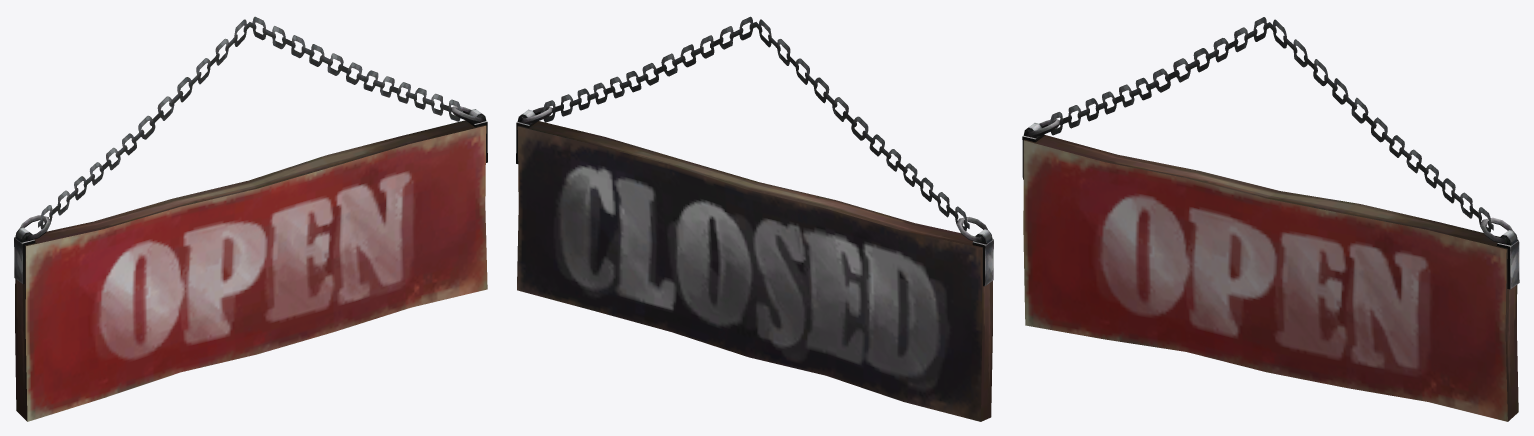
File: letrero.obj
The picture shows the model from 3 angles, left to right: view 1: azimuth 30°, elevation 25°; view 2: azimuth 150°, elevation 25°; view 3: azimuth 330°, elevation 25°; orthographic projection. The views are drawn at different scales.
Parts seen in each view (by area): view 1: Letrero; view 2: Letrero; view 3: Letrero.
Part boxes in pixels (bbox=[...]): Letrero: bbox=[14, 16, 487, 421]; Letrero: bbox=[516, 16, 993, 421]; Letrero: bbox=[1022, 17, 1519, 421].
Bounding box in the file's own units: 1.23 × 0.8797 × 0.0772.
2 materials, 2 textured.
